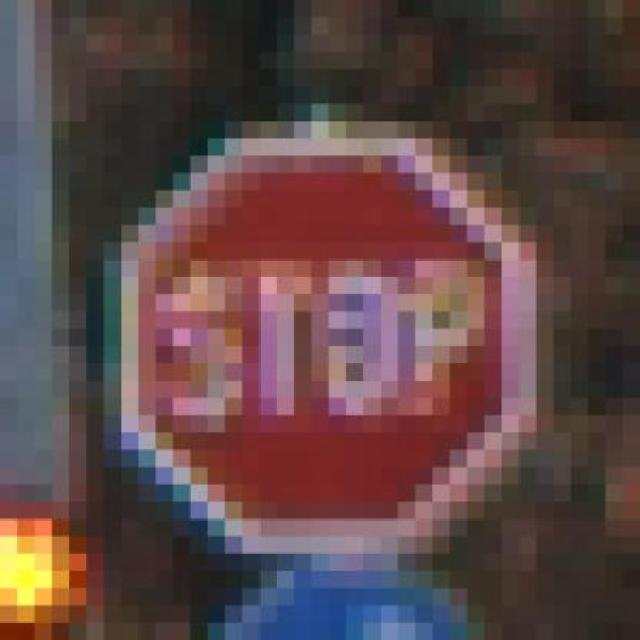Stop_Sign: (86, 103, 588, 571)
